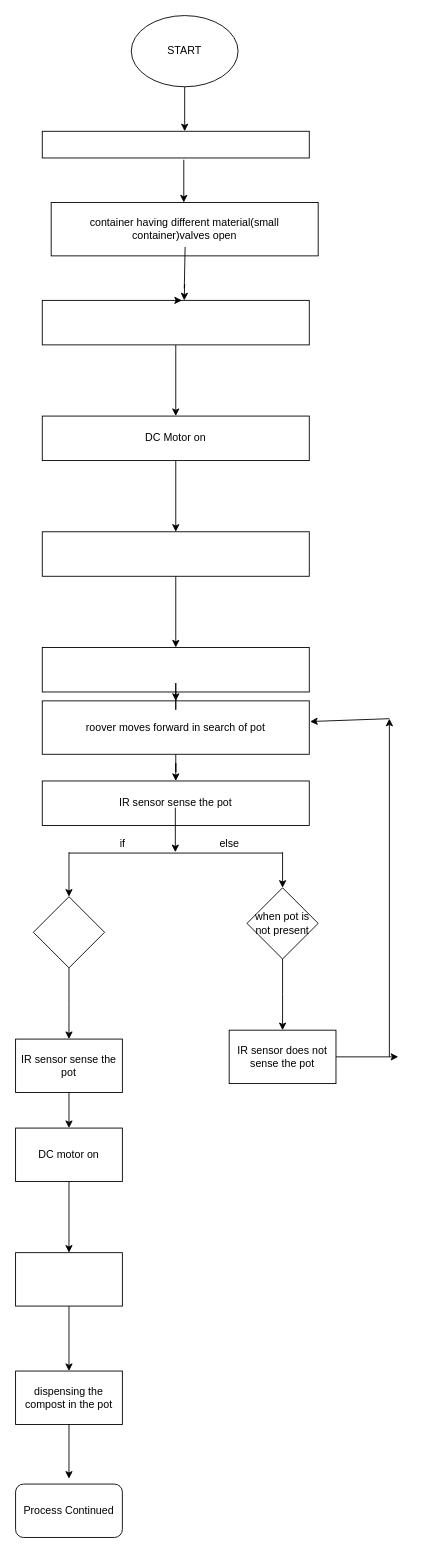
Some shapes in this 421 by 1553 pixel diagram are drawn without their labels. Here are the shapes that lost their labels. From the top down, the box of each, then its label:
(41, 130, 309, 158): STEPPER MOTOR ON
(41, 299, 309, 345): main container accepting the material from the small container.
(41, 531, 309, 576): Blades starts rotating
(41, 647, 309, 692): Compost mixed
(32, 896, 105, 968): When pot is present
(15, 1252, 122, 1306): Main mixer gate is open
